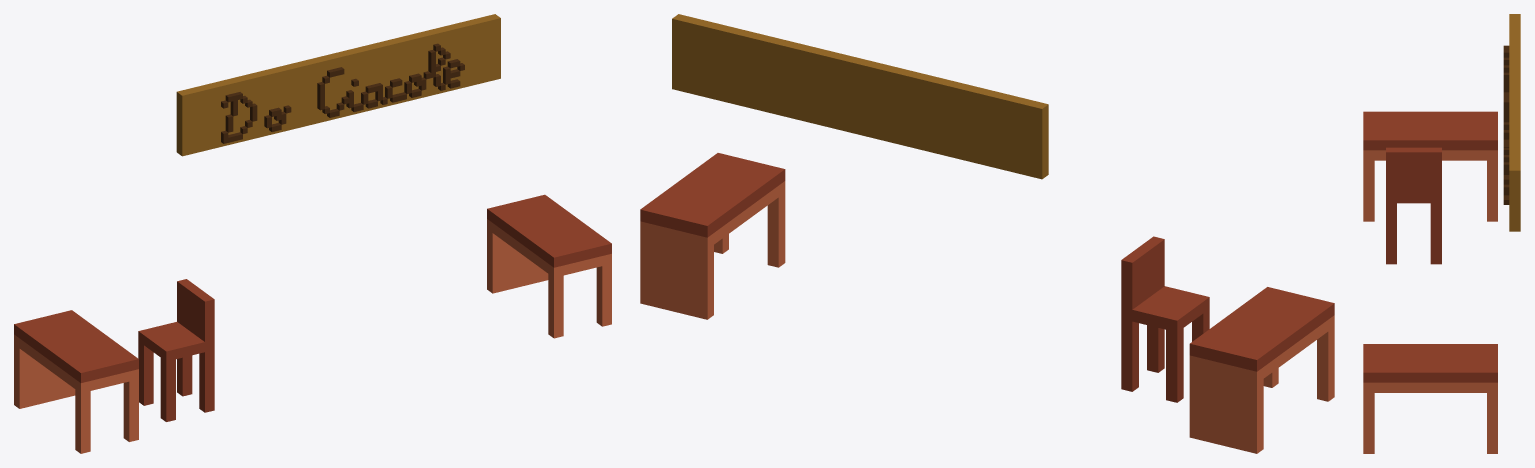
The model's file is do ciacole legno.obj.
The picture shows the model from 3 angles, left to right: view 1: azimuth 30°, elevation 25°; view 2: azimuth 150°, elevation 25°; view 3: azimuth 270°, elevation 25°; orthographic projection. The views are drawn at different scales.
Size of the model in its own units: 11 by 5.2 by 2.8.
1 material, 1 textured.
